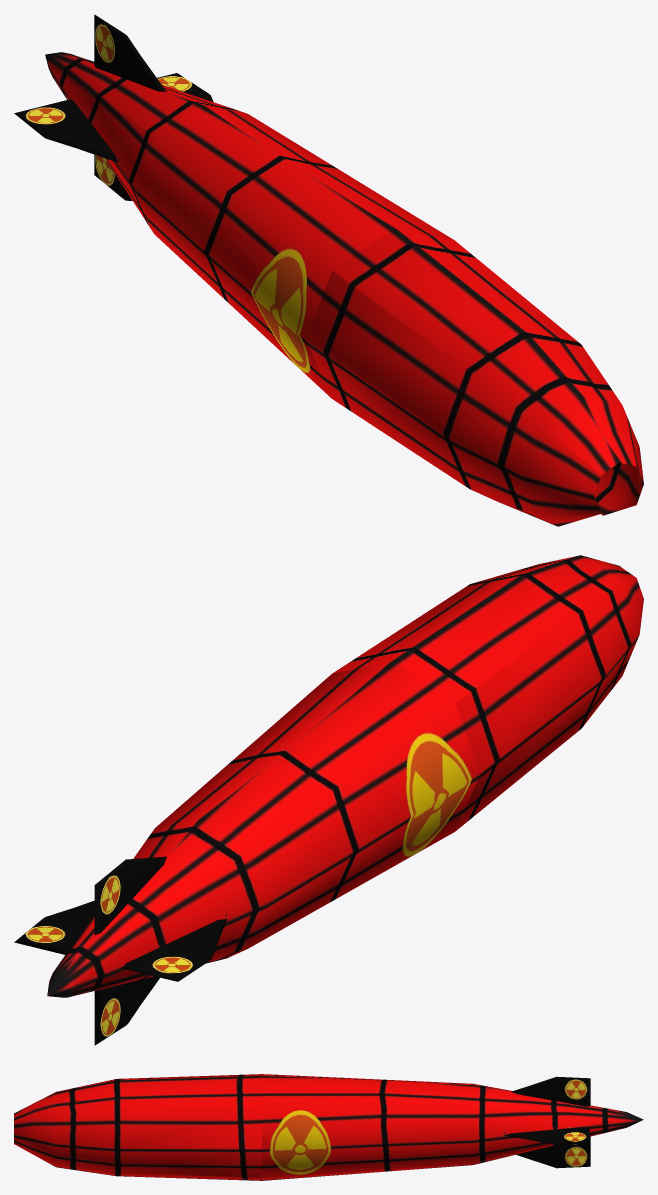
Rendered from Zeppelin_V2.fbx.
The picture shows the model from 3 angles, top to bottom: view 1: azimuth 30°, elevation 25°; view 2: azimuth 150°, elevation 25°; view 3: azimuth 270°, elevation 25°; orthographic projection. The views are drawn at different scales.
Parts seen in each view (by area): view 1: Zeppelin, Aletas2, Aletas; view 2: Zeppelin, Aletas2, Aletas, Aletas1, Aletas3; view 3: Zeppelin, Aletas, Aletas1, Aletas3.
Part boxes in pixels (left/top/right/bottom): Zeppelin: left=45, top=52, right=643, bottom=526; Aletas2: left=14, top=99, right=118, bottom=162; Aletas: left=94, top=14, right=166, bottom=91; Zeppelin: left=47, top=555, right=643, bottom=997; Aletas2: left=121, top=919, right=226, bottom=981; Aletas: left=94, top=856, right=166, bottom=934; Aletas1: left=94, top=976, right=159, bottom=1045; Aletas3: left=14, top=900, right=94, bottom=954; Zeppelin: left=14, top=1074, right=643, bottom=1180; Aletas: left=511, top=1076, right=590, bottom=1106; Aletas1: left=516, top=1136, right=590, bottom=1168; Aletas3: left=504, top=1127, right=589, bottom=1144.
Bounding box in the file's own units: 103 × 98.92 × 588.
